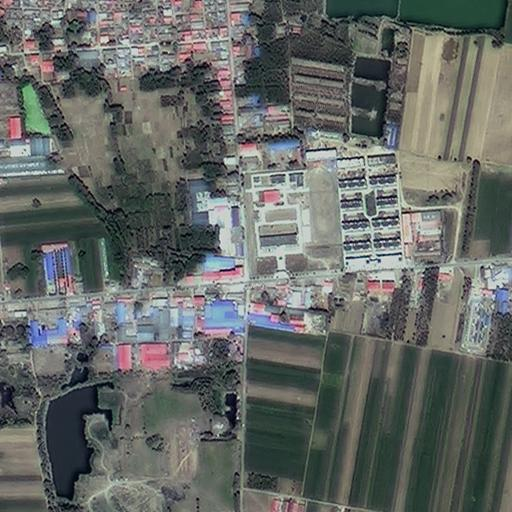school: (238, 164, 343, 282)
